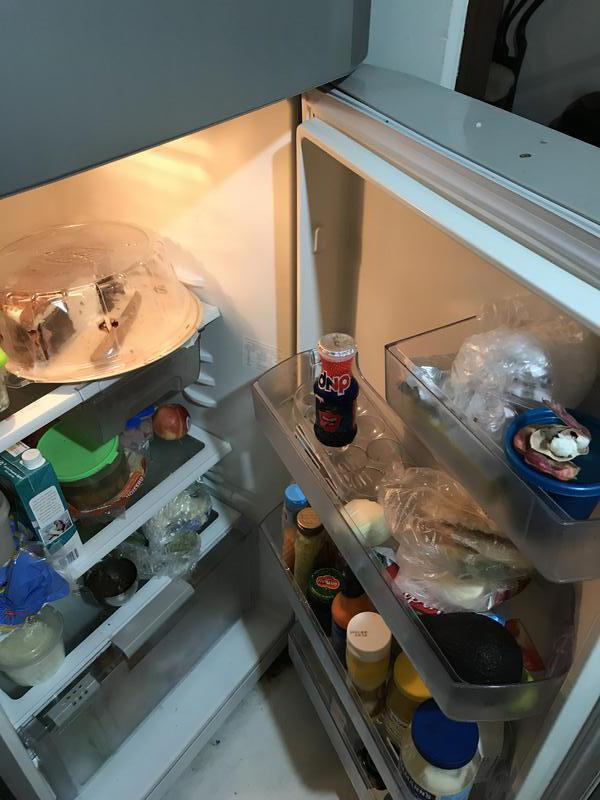danup: (311, 330, 361, 452)
